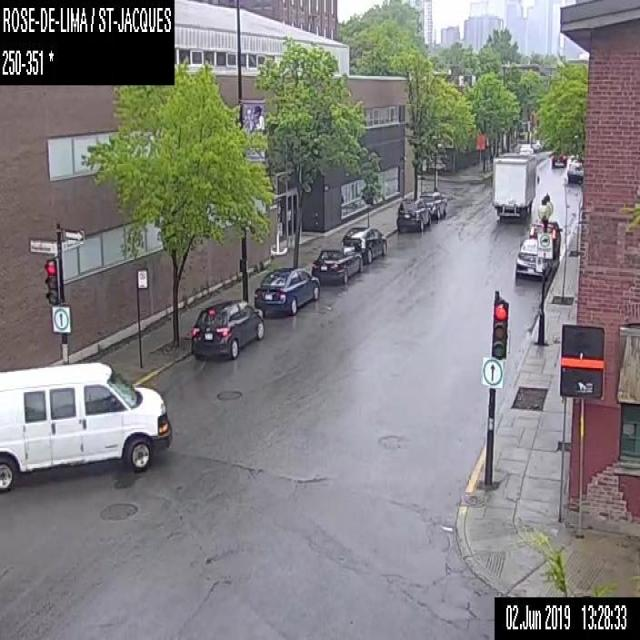vehicle: (0, 358, 171, 490), (191, 297, 264, 356), (490, 151, 539, 221), (254, 264, 318, 313), (514, 235, 556, 278), (311, 247, 357, 281), (341, 224, 388, 257), (396, 196, 430, 231), (528, 220, 562, 254), (417, 188, 446, 220), (568, 157, 582, 180), (550, 152, 568, 166), (518, 142, 533, 153), (544, 231, 546, 232)
